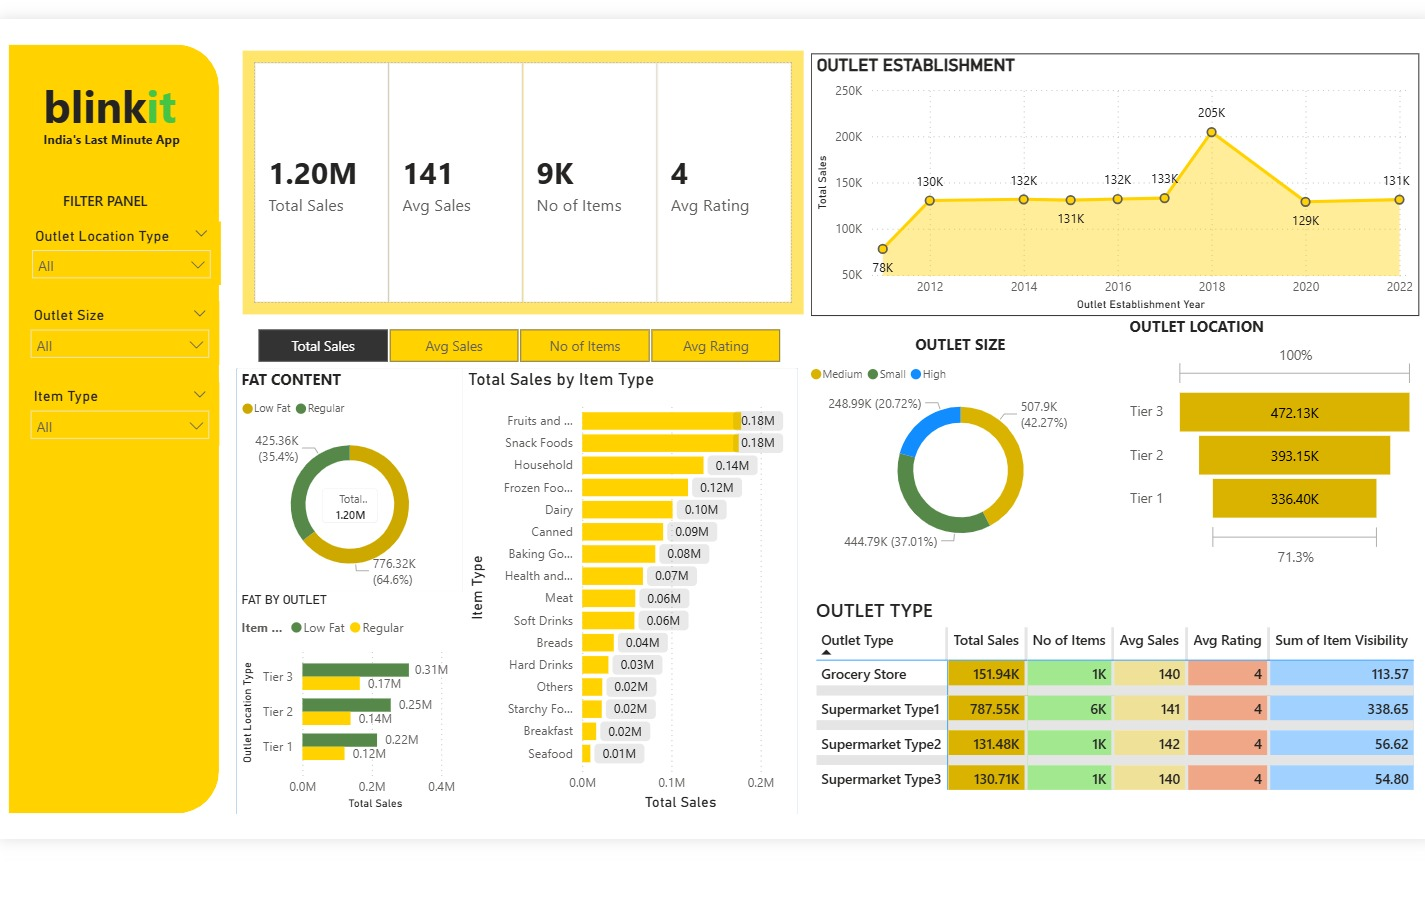

This screenshot's page, from the dashboard's own definition file:
{"tool":"powerbi","page":{"name":"Page 1","canvas":[1400,800],"ordinal":0},"visuals":[{"type":"shape","box":[10.1,25.3,205.3,750.3],"z":0},{"type":"textbox","box":[39.3,49.4,233.2,67.2],"z":1000},{"type":"textbox","box":[39.3,102.7,193.9,27.9],"z":2000},{"type":"cardVisual","fields":{"Data":["BlinkIT Grocery Data.Total Sales","BlinkIT Grocery Data.Avg Sales","BlinkIT Grocery Data.No of Items","BlinkIT Grocery Data.Avg Rating"]},"box":[233.2,25.3,560.2,269.9],"z":3000},{"type":"shape","box":[233.2,295.3,547.5,480.3],"z":4000},{"type":"donutChart","title":"FAT CONTENT","fields":{"Y":["BlinkIT Grocery Data.Total Sales"],"Category":["BlinkIT Grocery Data.Item Fat Content"]},"box":[233.2,340.9,220.5,218],"z":5000},{"type":"slicer","fields":{"Values":["Metrics.Metrics"]},"box":[228.1,295.3,558.9,45.6],"z":6000},{"type":"cardVisual","fields":{"Data":["BlinkIT Grocery Data.Total Sales"]},"box":[297.8,439.8,90,68.4],"z":7000},{"type":"clusteredBarChart","title":"FAT BY OUTLET","fields":{"Y":["BlinkIT Grocery Data.Total Sales"],"Category":["BlinkIT Grocery Data.Outlet Location Type"],"Series":["BlinkIT Grocery Data.Item Fat Content"]},"box":[233.2,558.9,225.6,216.7],"z":8000},{"type":"barChart","fields":{"Y":["BlinkIT Grocery Data.Total Sales"],"Category":["BlinkIT Grocery Data.Item Type"]},"box":[453.7,340.9,327,434.7],"z":9000},{"type":"lineChart","title":"OUTLET ESTABLISHMENT","fields":{"Category":["BlinkIT Grocery Data.Outlet Establishment Year"],"Y":["BlinkIT Grocery Data.Total Sales"]},"box":[793.4,34.2,593.1,256],"z":10000},{"type":"donutChart","title":"OUTLET SIZE","fields":{"Y":["BlinkIT Grocery Data.Total Sales"],"Category":["BlinkIT Grocery Data.Outlet Size"]},"box":[787,306.7,302.9,218],"z":11000},{"type":"funnel","title":"OUTLET LOCATION","fields":{"Category":["BlinkIT Grocery Data.Outlet Location Type"],"Y":["BlinkIT Grocery Data.Total Sales"]},"box":[1098.8,290.2,287.7,250.9],"z":12000},{"type":"pivotTable","title":"OUTLET TYPE","fields":{"Rows":["BlinkIT Grocery Data.Outlet Type"],"Values":["BlinkIT Grocery Data.Total Sales","BlinkIT Grocery Data.No of Items","BlinkIT Grocery Data.Avg Sales","BlinkIT Grocery Data.Avg Rating","Sum(BlinkIT Grocery Data.Item Visibility)"]},"box":[793.4,564,593.1,235.7],"z":13000},{"type":"slicer","fields":{"Values":["BlinkIT Grocery Data.Outlet Location Type"]},"box":[22.8,197.7,193.9,62.1],"z":13001},{"type":"slicer","fields":{"Values":["BlinkIT Grocery Data.Outlet Size"]},"box":[21.5,275,193.9,62.1],"z":13002},{"type":"slicer","fields":{"Values":["BlinkIT Grocery Data.Item Type"]},"box":[21.5,353.6,193.9,62.1],"z":13003},{"type":"textbox","box":[22.8,162.2,162.2,30.4],"z":13004}]}

Visuals, with their boxes on the page's 1400x800 design canvas (x1, y1, x2, y2). These are canvas units, not pixel positions in the 1425x901 screenshot, which may show the page scaled, cropped or inside an application window:
shape: x1=10 y1=25 x2=215 y2=776
textbox: x1=39 y1=49 x2=272 y2=117
textbox: x1=39 y1=103 x2=233 y2=131
cardVisual - BlinkIT Grocery Data.Total Sales x BlinkIT Grocery Data.Avg Sales: x1=233 y1=25 x2=793 y2=295
shape: x1=233 y1=295 x2=781 y2=776
"FAT CONTENT" donutChart: x1=233 y1=341 x2=454 y2=559
slicer - Metrics.Metrics: x1=228 y1=295 x2=787 y2=341
cardVisual - BlinkIT Grocery Data.Total Sales: x1=298 y1=440 x2=388 y2=508
"FAT BY OUTLET" clusteredBarChart: x1=233 y1=559 x2=459 y2=776
barChart - BlinkIT Grocery Data.Total Sales x BlinkIT Grocery Data.Item Type: x1=454 y1=341 x2=781 y2=776
"OUTLET ESTABLISHMENT" lineChart: x1=793 y1=34 x2=1386 y2=290
"OUTLET SIZE" donutChart: x1=787 y1=307 x2=1090 y2=525
"OUTLET LOCATION" funnel: x1=1099 y1=290 x2=1386 y2=541
"OUTLET TYPE" pivotTable: x1=793 y1=564 x2=1386 y2=800
slicer - BlinkIT Grocery Data.Outlet Location Type: x1=23 y1=198 x2=217 y2=260
slicer - BlinkIT Grocery Data.Outlet Size: x1=22 y1=275 x2=215 y2=337
slicer - BlinkIT Grocery Data.Item Type: x1=22 y1=354 x2=215 y2=416
textbox: x1=23 y1=162 x2=185 y2=193
